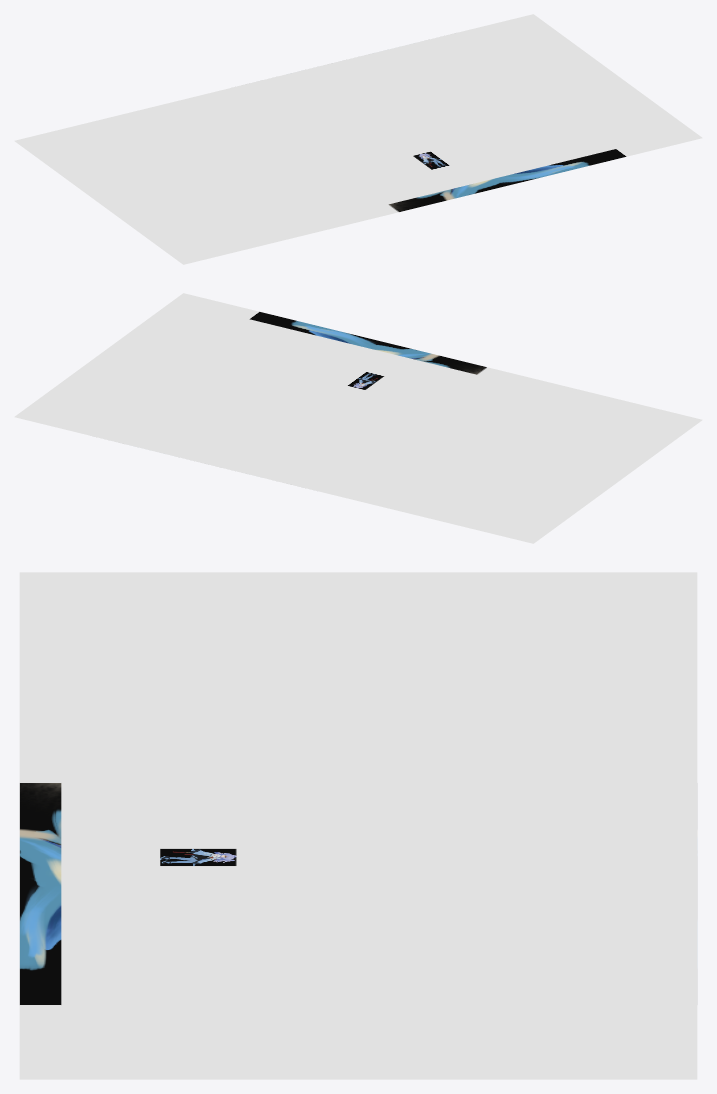
File: TitleAppended.fbx
The picture shows the model from 3 angles, top to bottom: view 1: azimuth 30°, elevation 25°; view 2: azimuth 150°, elevation 25°; view 3: azimuth 270°, elevation 25°; orthographic projection. The views are drawn at different scales.
Visible parts, largest first — view 1: 3.001, 5.001; view 2: 3.001, 5.001; view 3: 3.001, 5.001.
Part boxes in pixels (x1,y1,x2,y2): 3.001: (107,46,642,240); 5.001: (14,14,702,264); 3.001: (91,313,626,507); 5.001: (14,293,702,543); 3.001: (61,635,587,1030); 5.001: (19,572,697,1079).
Bounding box in the file's own units: 3169 × 1 × 1790.
Materials: 2 (2 with a texture image).
